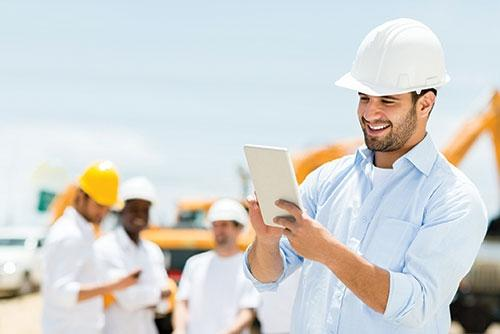helmet: (332, 18, 450, 99), (76, 159, 119, 211), (205, 198, 250, 232), (120, 176, 156, 210)
no_wear: (288, 158, 485, 331), (95, 238, 166, 333), (42, 231, 105, 334), (179, 253, 258, 334)
